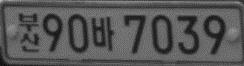0: (150, 14, 174, 53), (67, 14, 88, 53)
3: (176, 14, 199, 54)
7: (123, 14, 147, 54)
9: (203, 14, 226, 55), (42, 13, 62, 52)
바: (91, 16, 115, 51)
부산_V: (18, 12, 40, 54)
